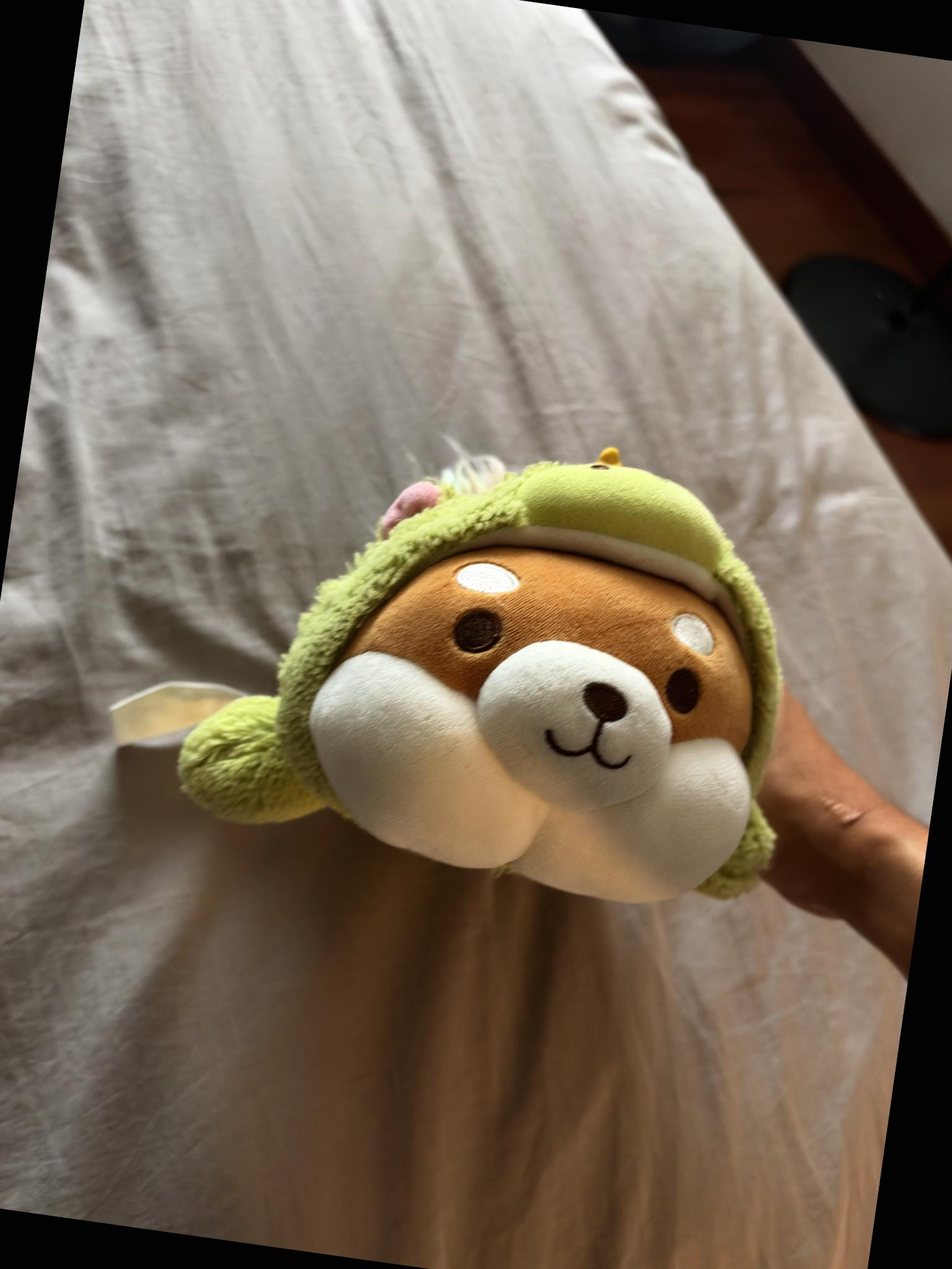peluche_martin: (162, 385, 832, 927)
